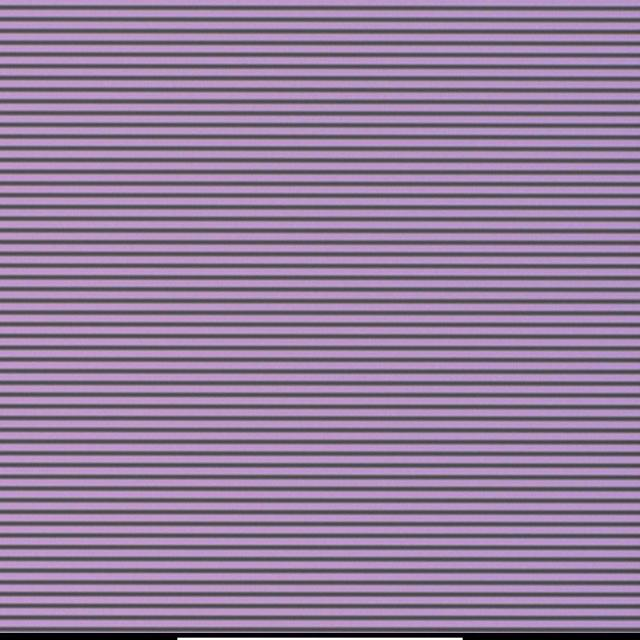nonvisual: (305, 286, 310, 292)
